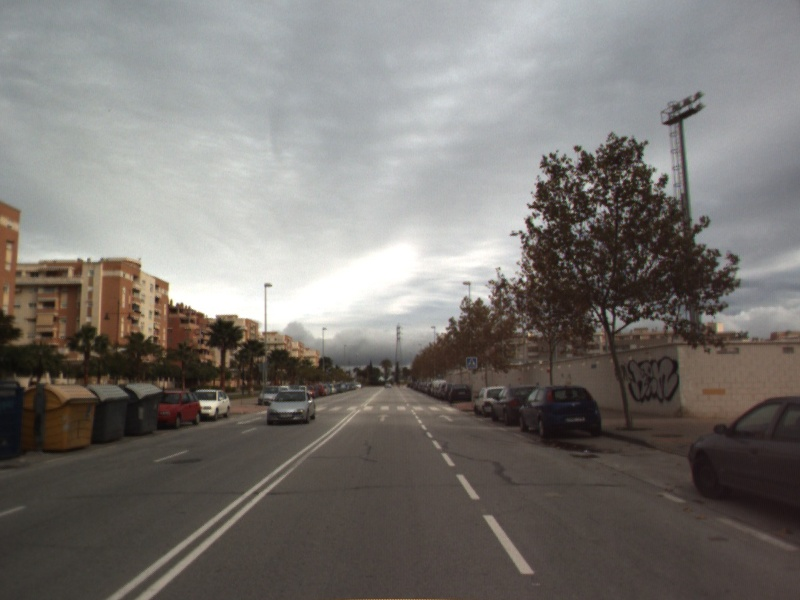STRAIGHT: (437, 411, 456, 424), (375, 412, 393, 423)
